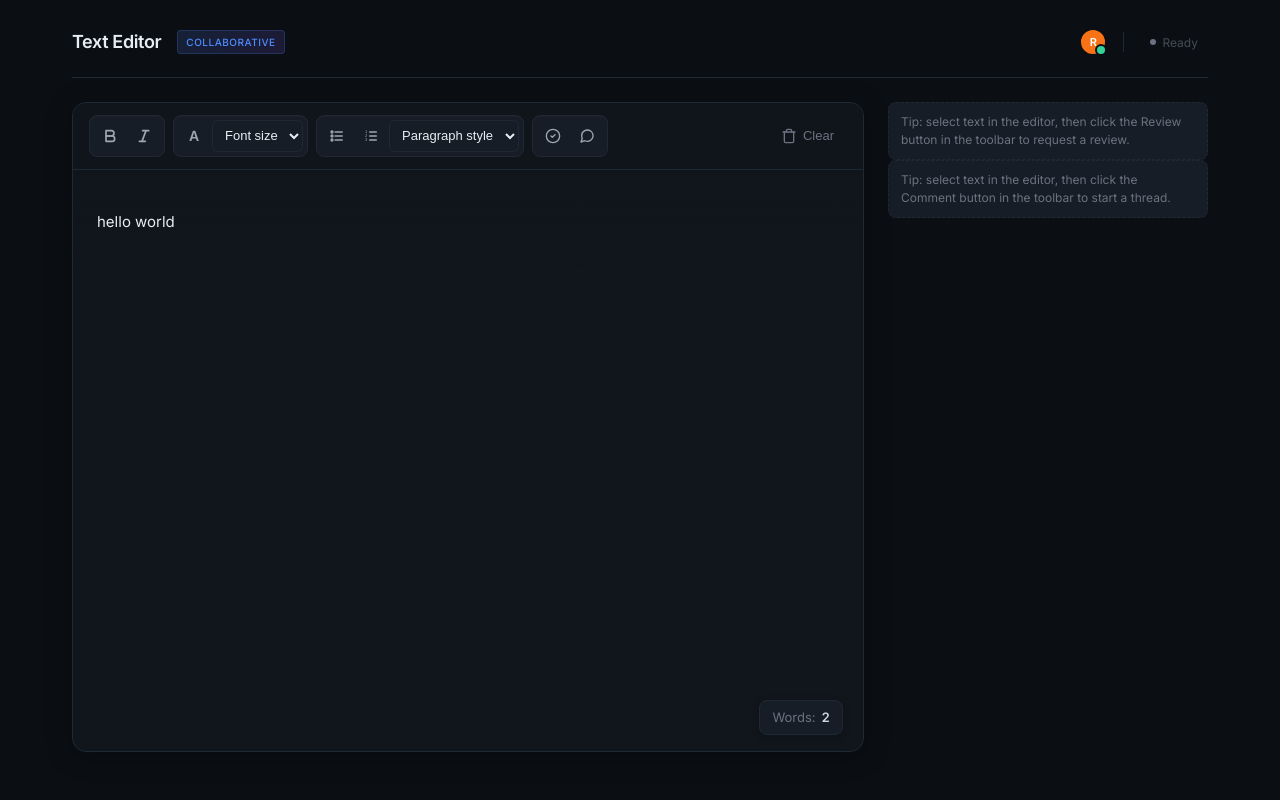
App — Requirement 3: clear text end-to-end › empties the editor after the user clicks Clear and confirms
The image size is (1280, 800).
Expected: the field named "Text Editor" reads "hello world", [97, 212, 175, 231]
Click the button "Clear".
click(807, 136)  # box [768, 120, 847, 152]
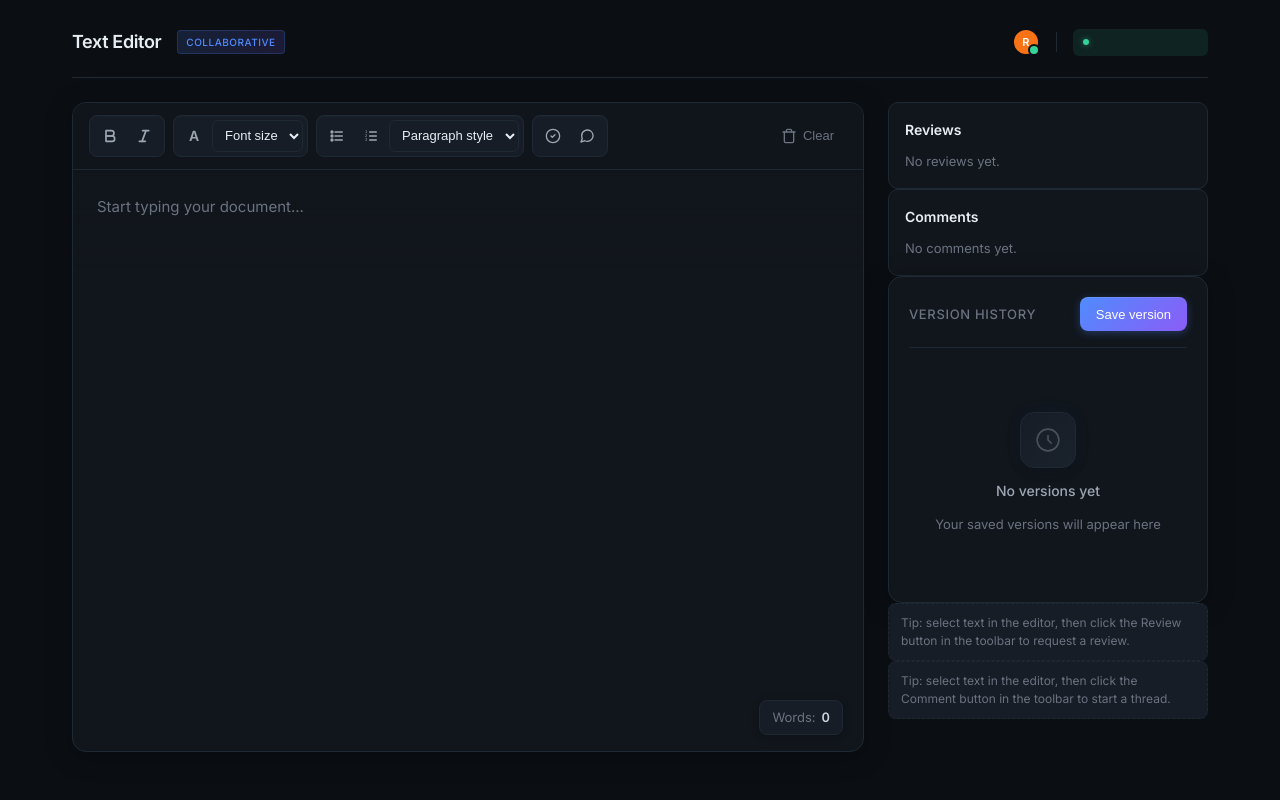
Expected: the field named "Text Editor" is empty, [73, 170, 863, 751]
